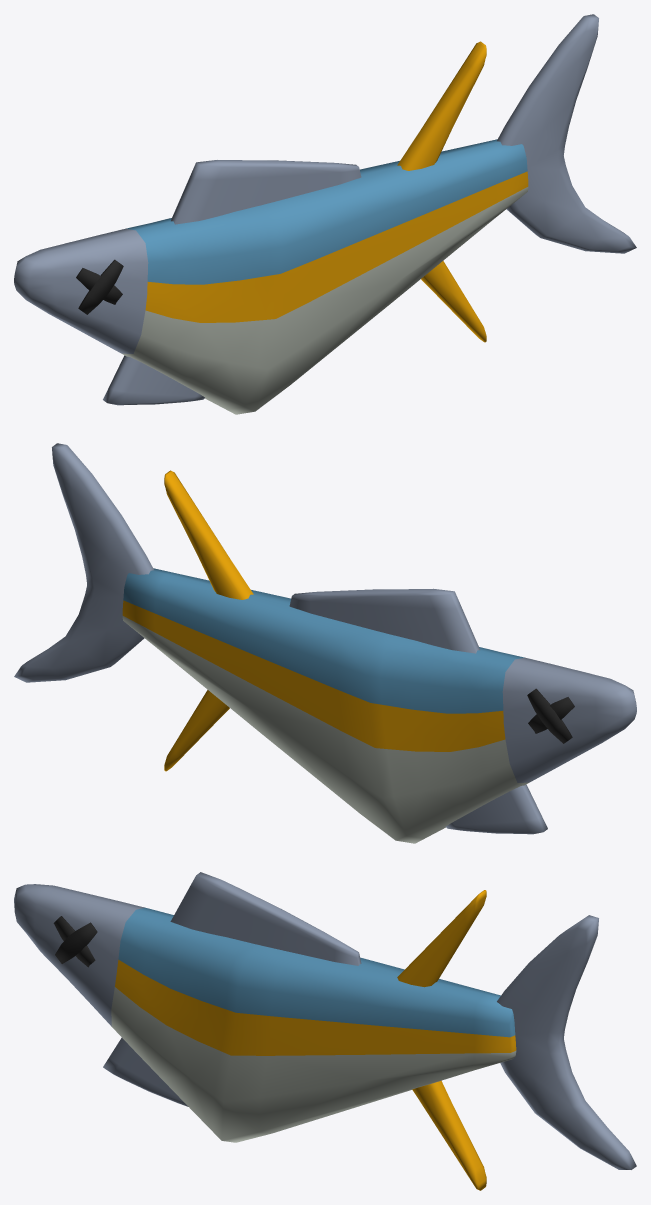
File: tuna.glb
The picture shows the model from 3 angles, top to bottom: view 1: azimuth 30°, elevation 25°; view 2: azimuth 150°, elevation 25°; view 3: azimuth 330°, elevation 25°; orthographic projection.
Parts seen in each view (by area): view 1: FoodIngredient_Tuna; view 2: FoodIngredient_Tuna; view 3: FoodIngredient_Tuna.
Part boxes in pixels (bbox=[...]): FoodIngredient_Tuna: bbox=[14, 14, 636, 414]; FoodIngredient_Tuna: bbox=[14, 443, 636, 843]; FoodIngredient_Tuna: bbox=[14, 872, 636, 1190].
Bounding box in the file's own units: 1.56 × 0.7505 × 0.1963.
1 material, 1 textured.
